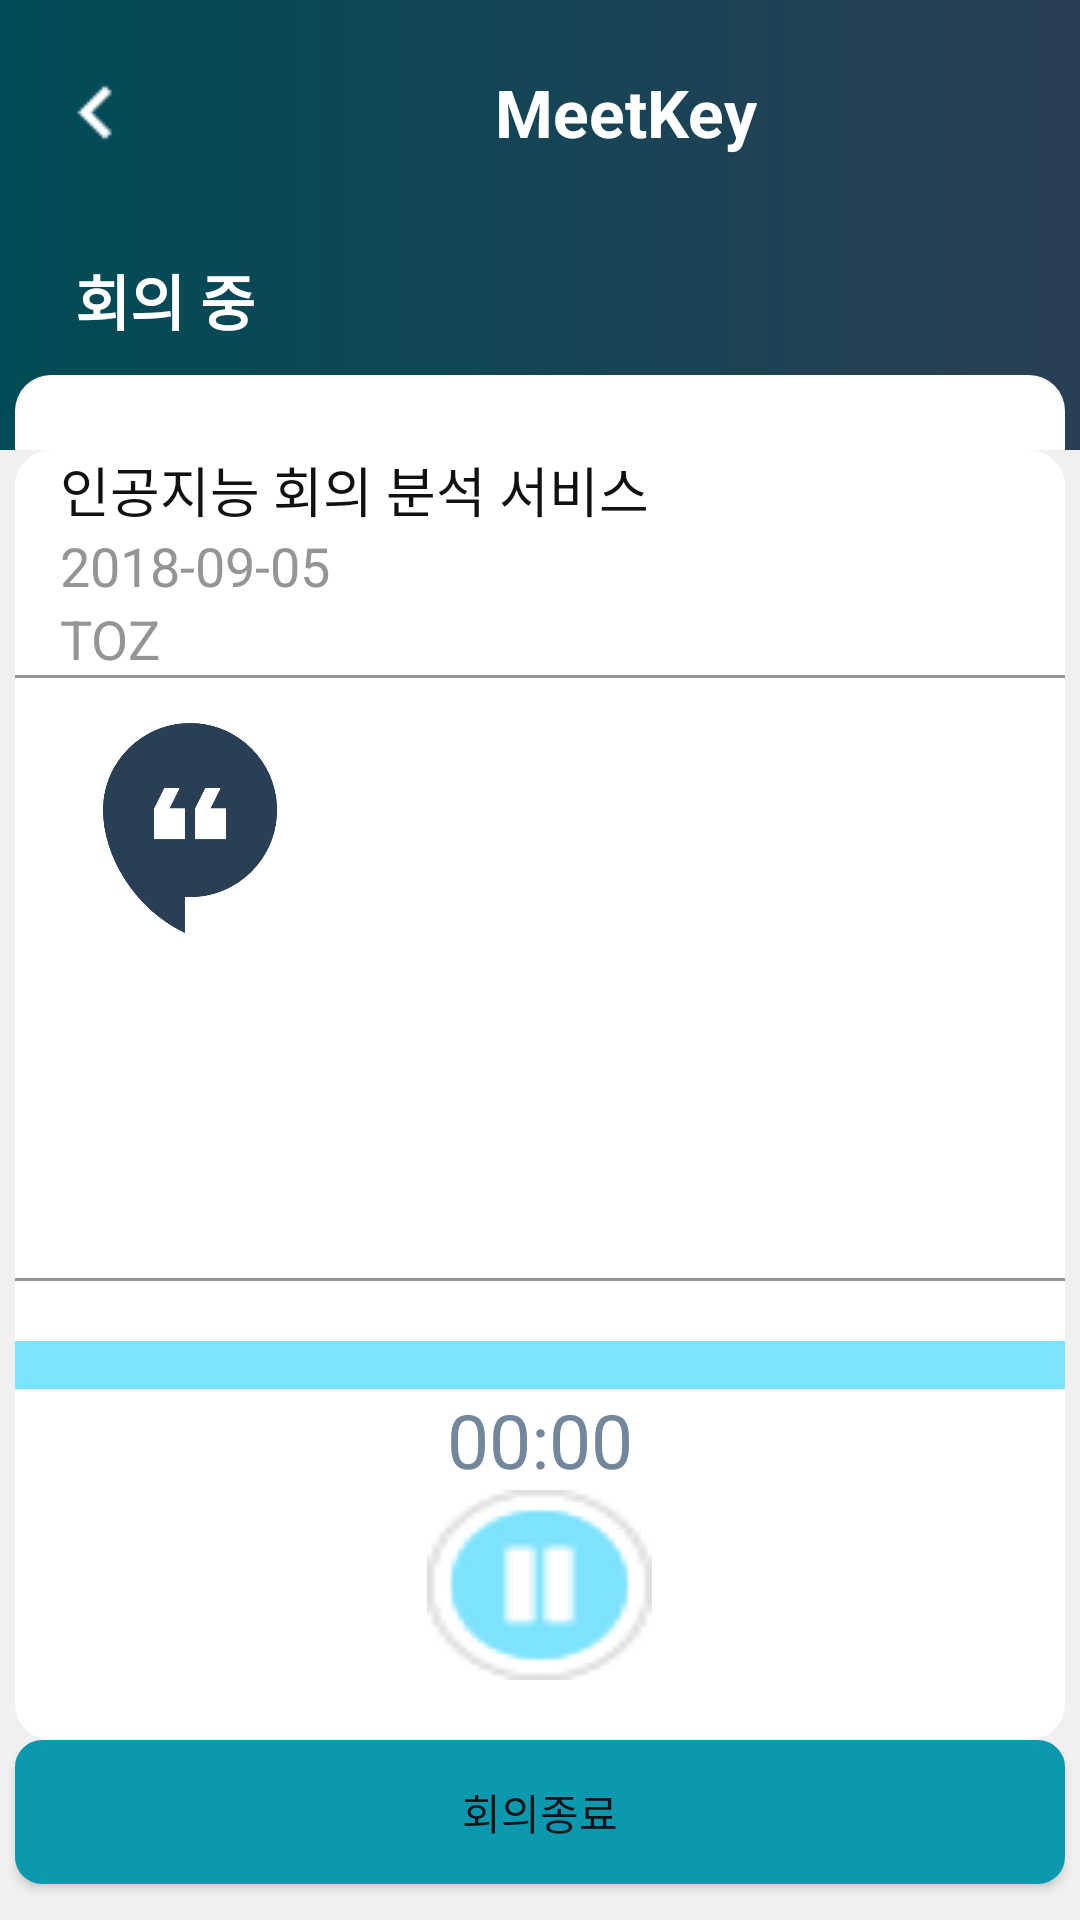

Icons on this 1080px x 1920px Android screen, each with its box as {"x1": x1, "y1": y1, "x2": x2, "y2": y2}:
back: {"x1": 77, "y1": 86, "x2": 112, "y2": 139}
